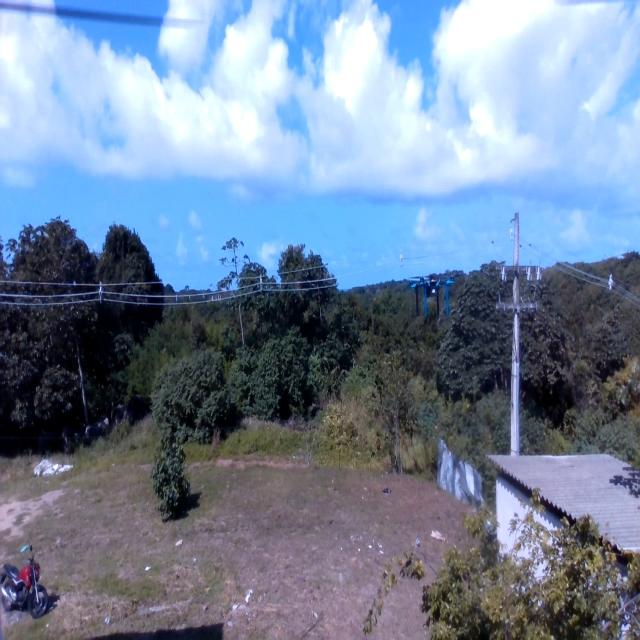-uav-: (400, 258, 469, 335)
